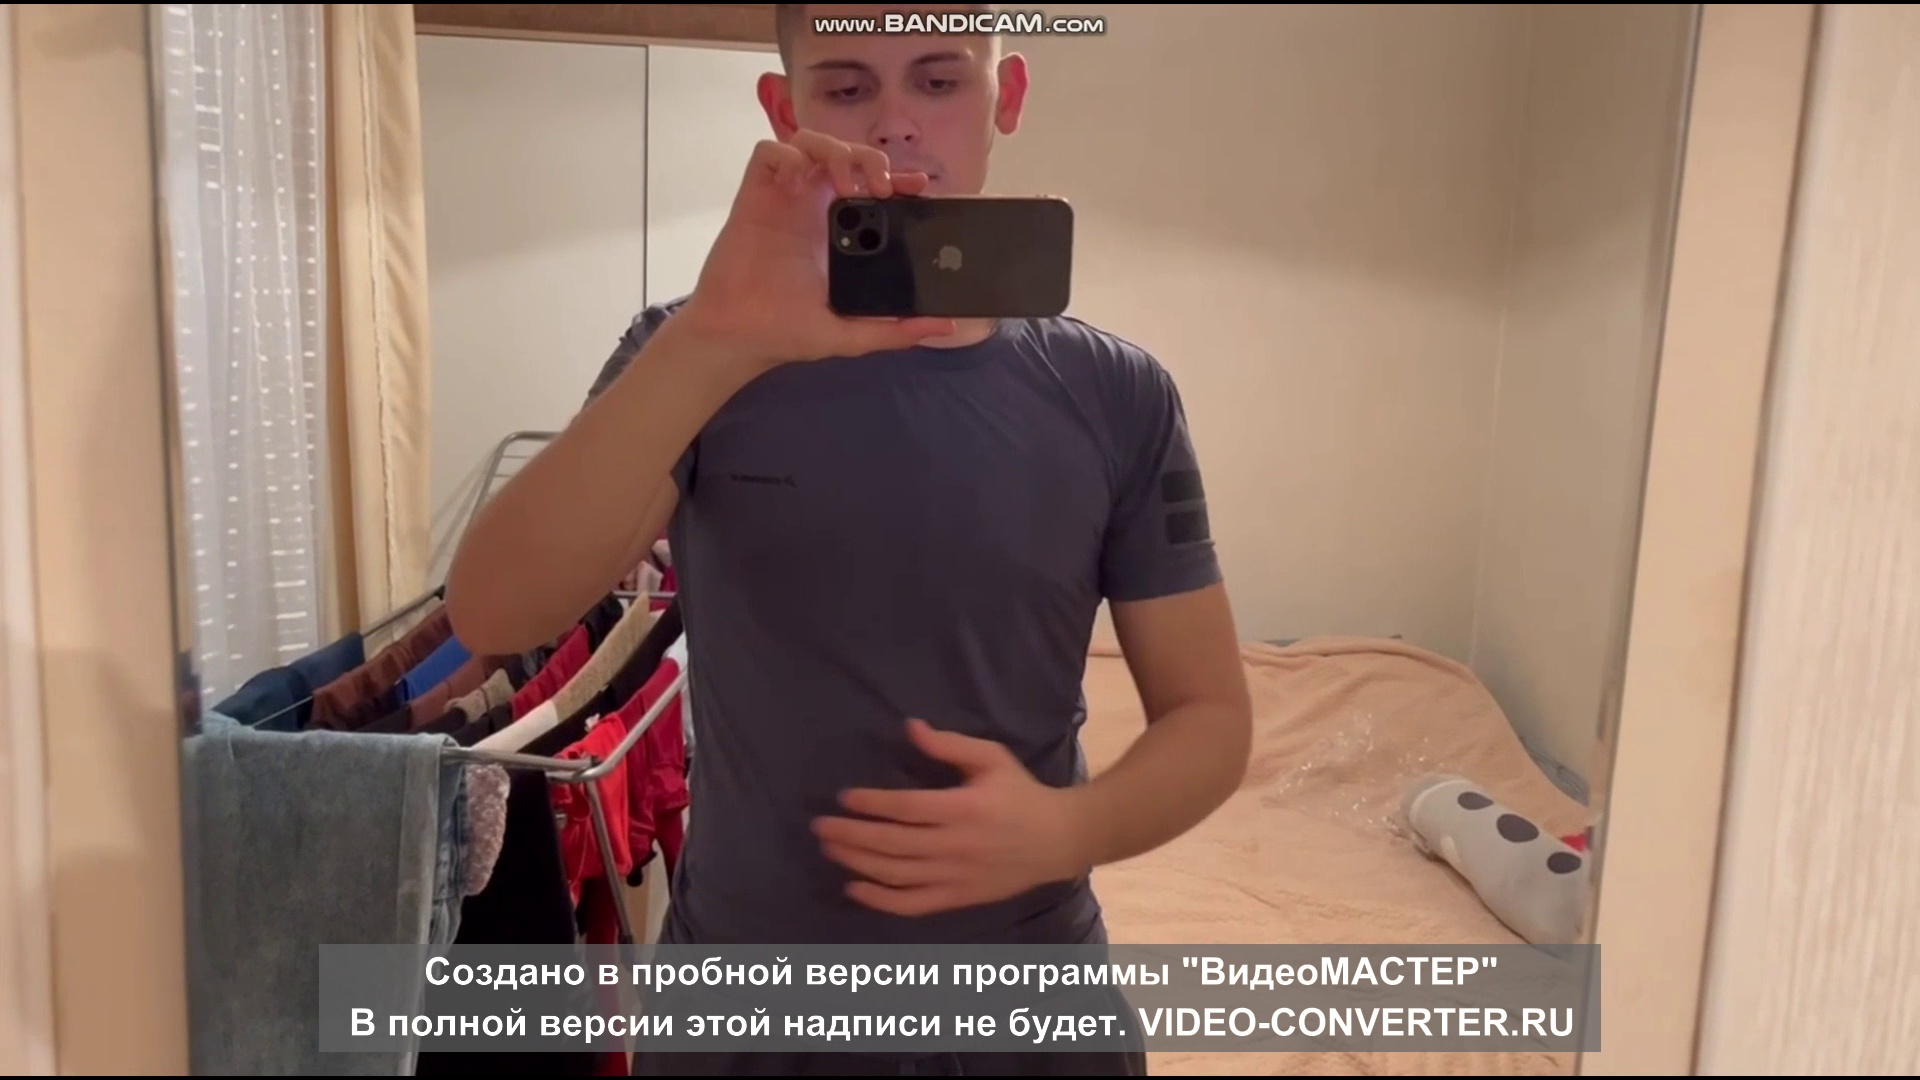Кисть: (812, 717, 1081, 919)
